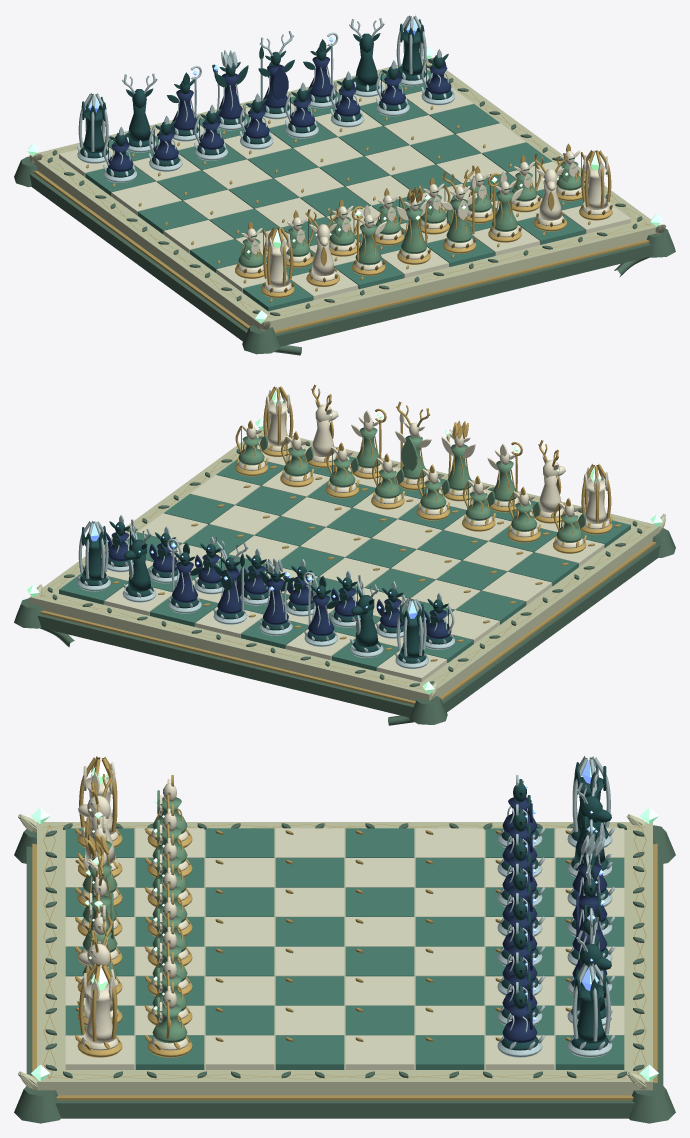
File: sylvan-court-chess-set.glb
3 renders of one model, top to bottom at view 1: azimuth 30°, elevation 25°; view 2: azimuth 150°, elevation 25°; view 3: azimuth 270°, elevation 25°, orthographic. The views are drawn at different scales.
Parts seen in each view (by area): view 1: Sylvan Court / living moonstone board, Moonveil / Leafwarden (×8), Sunleaf / Leafwarden (×8), Sunleaf / Silverwood spire (×2), Moonveil / Silverwood spire (×2), Sunleaf / Moon seer (×2), Moonveil / Moon seer (×2), Sunleaf / Royal stag (×2), Moonveil / Royal stag (×2), Sunleaf / Antler king, Moonveil / Antler king, Sunleaf / Bloom queen (+1 smaller); view 2: Sylvan Court / living moonstone board, Sunleaf / Leafwarden (×8), Moonveil / Leafwarden (×8), Moonveil / Silverwood spire (×2), Sunleaf / Silverwood spire (×2), Moonveil / Moon seer (×2), Moonveil / Royal stag (×2), Sunleaf / Moon seer (×2), Sunleaf / Royal stag (×2), Moonveil / Antler king, Moonveil / Bloom queen, Sunleaf / Antler king (+1 smaller); view 3: Sylvan Court / living moonstone board, Sunleaf / Leafwarden (×8), Moonveil / Leafwarden (×8), Moonveil / Silverwood spire (×2), Sunleaf / Silverwood spire (×2), Moonveil / Royal stag (×2), Sunleaf / Royal stag (×2), Sunleaf / Moon seer (×2), Moonveil / Moon seer (×2), Moonveil / Antler king, Sunleaf / Antler king, Sunleaf / Bloom queen (+1 smaller).
Boxes of the visible parts, x1,y1,x2,y2 form: Sylvan Court / living moonstone board: (14, 47, 675, 355); Moonveil / Leafwarden (×8): (103, 49, 454, 182); Sunleaf / Leafwarden (×8): (235, 143, 584, 278); Sunleaf / Silverwood spire (×2): (261, 150, 612, 298); Moonveil / Silverwood spire (×2): (77, 15, 428, 163); Sunleaf / Moon seer (×2): (351, 171, 523, 275); Moonveil / Moon seer (×2): (167, 32, 338, 141); Sunleaf / Royal stag (×2): (305, 153, 567, 286); Moonveil / Royal stag (×2): (122, 18, 384, 152); Sunleaf / Antler king: (440, 165, 477, 253); Moonveil / Antler king: (258, 31, 294, 119); Sunleaf / Bloom queen: (396, 187, 432, 264); Sylvan Court / living moonstone board: (14, 418, 675, 725); Sunleaf / Leafwarden (×8): (235, 420, 586, 553); Moonveil / Leafwarden (×8): (105, 514, 454, 649); Moonveil / Silverwood spire (×2): (77, 521, 428, 668); Sunleaf / Silverwood spire (×2): (262, 386, 612, 534); Moonveil / Moon seer (×2): (167, 538, 338, 646); Moonveil / Royal stag (×2): (122, 519, 383, 657); Sunleaf / Moon seer (×2): (351, 408, 522, 512); Sunleaf / Royal stag (×2): (307, 384, 565, 523); Moonveil / Antler king: (213, 536, 249, 624); Moonveil / Bloom queen: (259, 558, 293, 635); Sunleaf / Antler king: (395, 401, 431, 490); Sylvan Court / living moonstone board: (14, 807, 675, 1123); Sunleaf / Leafwarden (×8): (144, 775, 192, 1057); Moonveil / Leafwarden (×8): (497, 775, 545, 1057); Moonveil / Silverwood spire (×2): (567, 756, 614, 1057); Sunleaf / Silverwood spire (×2): (75, 756, 122, 1057); Moonveil / Royal stag (×2): (567, 768, 612, 1025); Sunleaf / Royal stag (×2): (77, 768, 122, 1025); Sunleaf / Moon seer (×2): (75, 805, 122, 994); Moonveil / Moon seer (×2): (567, 816, 614, 994); Moonveil / Antler king: (567, 846, 614, 966); Sunleaf / Antler king: (75, 846, 122, 966); Sunleaf / Bloom queen: (75, 833, 122, 936).
Bounding box in the file's own units: 9.46 × 2.66 × 9.46.
